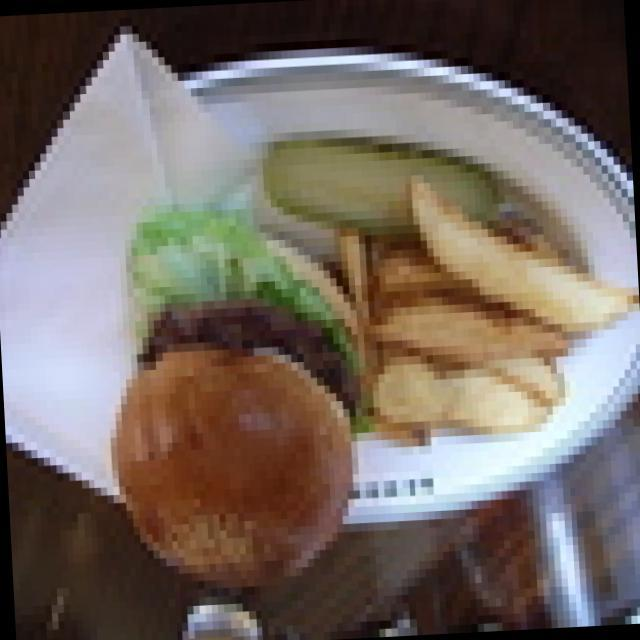Hamburger: (109, 218, 367, 595)
